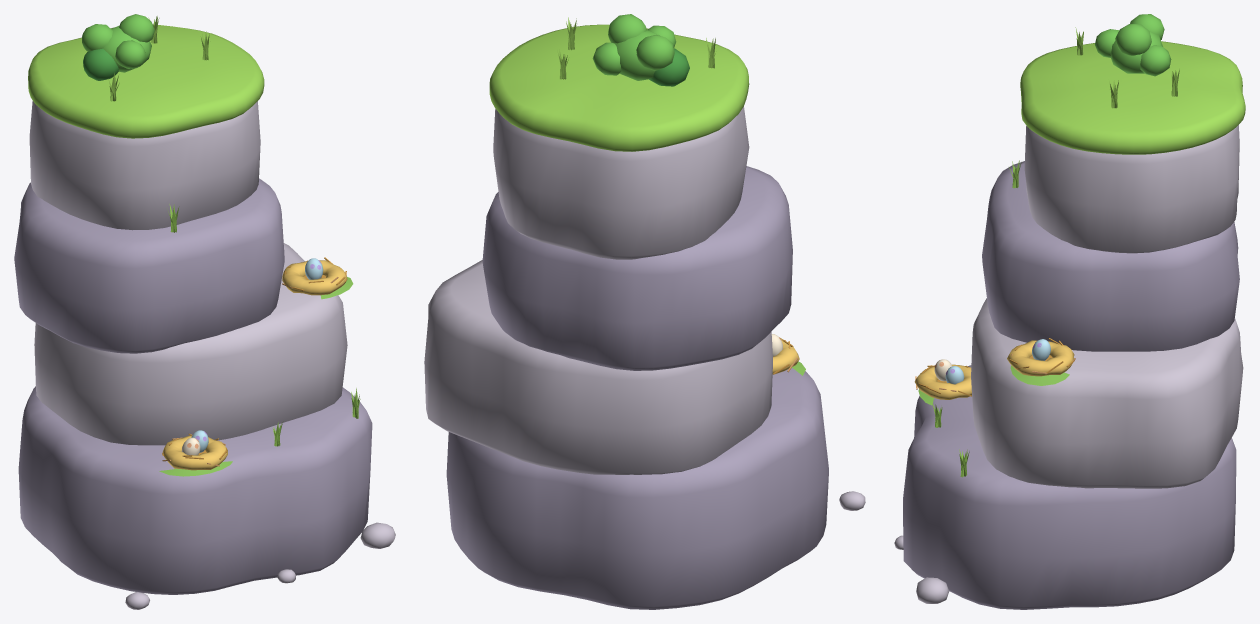
The model's file is prop_cliff.glb.
3 views of the same model, side by side, from view 1: azimuth 30°, elevation 25°; view 2: azimuth 150°, elevation 25°; view 3: azimuth 270°, elevation 25° (orthographic). The views are drawn at different scales.
Visible parts, largest first — view 1: prop_cliff; view 2: prop_cliff; view 3: prop_cliff.
Boxes of the visible parts, left/top/right/bottom form: prop_cliff: left=14, top=14, right=395, bottom=609; prop_cliff: left=424, top=14, right=865, bottom=609; prop_cliff: left=894, top=14, right=1245, bottom=609.
Bounding box in the file's own units: 3.96 × 6.47 × 4.08.
